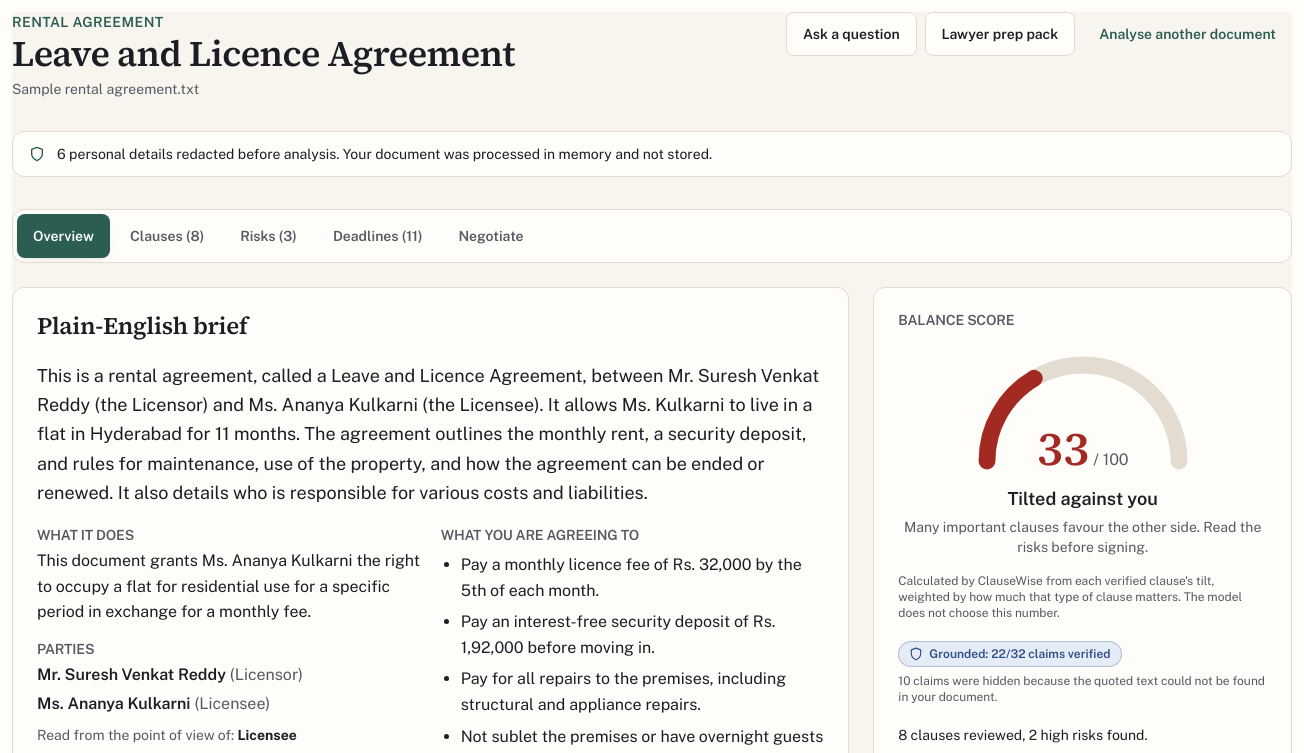
AnalysisResults › switches to the risk radar and deadlines tabs
Click the tab "Risks (3)": (269, 236) [224,214,313,258]
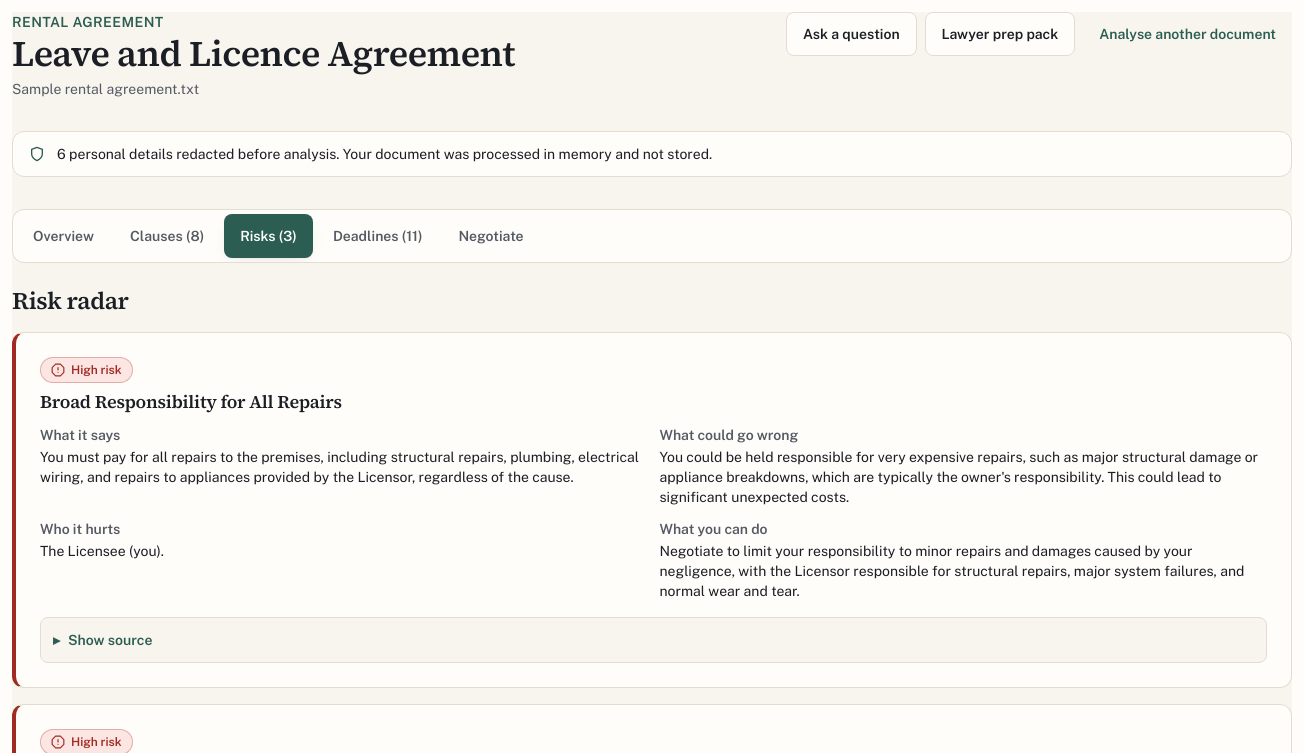
Expected: the heading "Risk radar" is shown, [12,284,129,317]
Click the tab "Deadlines (11)": (378, 236) [317,214,438,258]
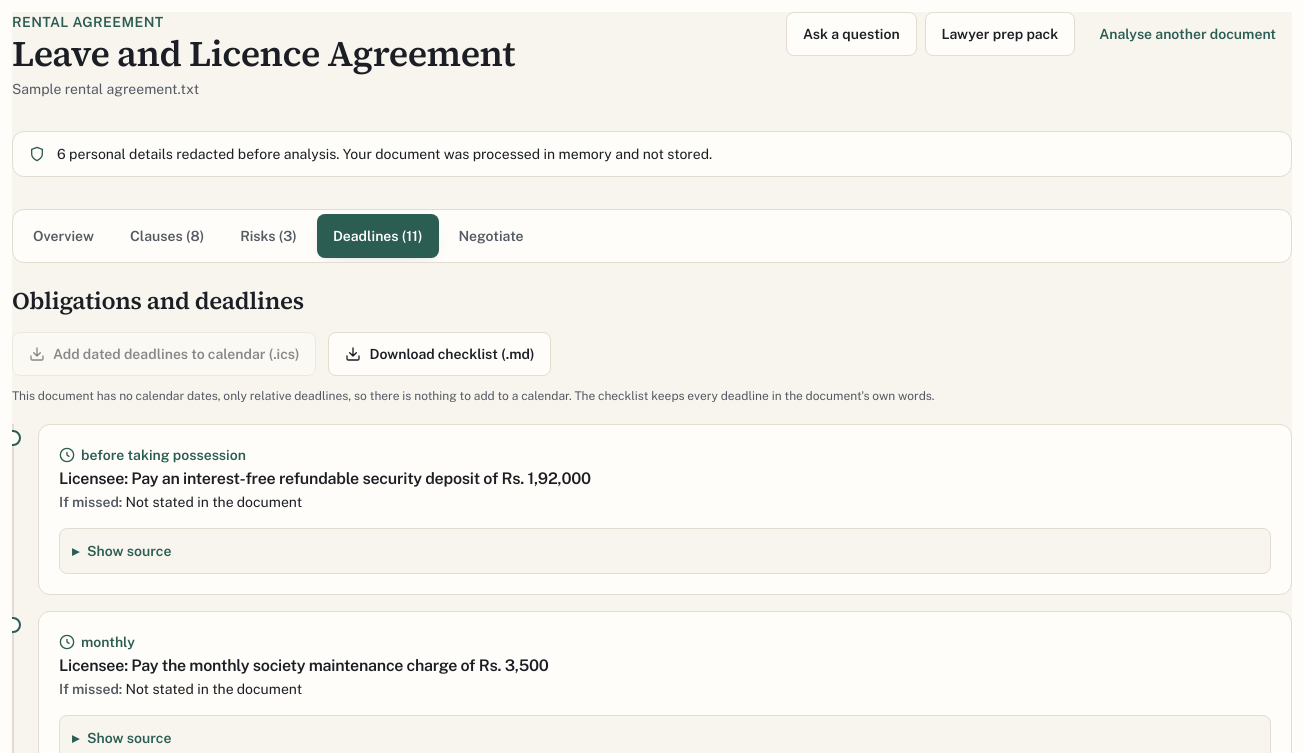
Expected: the button "Download checklist (.md)" is shown, [328,332,552,376]
